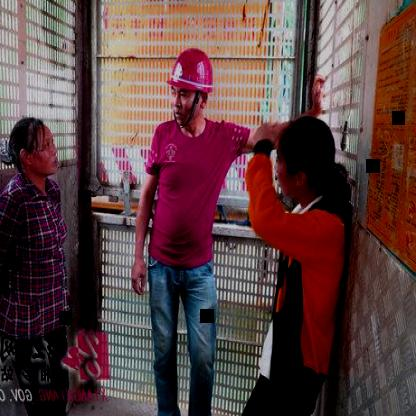head: (272, 109, 340, 199), (0, 114, 67, 190)
helmet: (166, 40, 218, 134)
